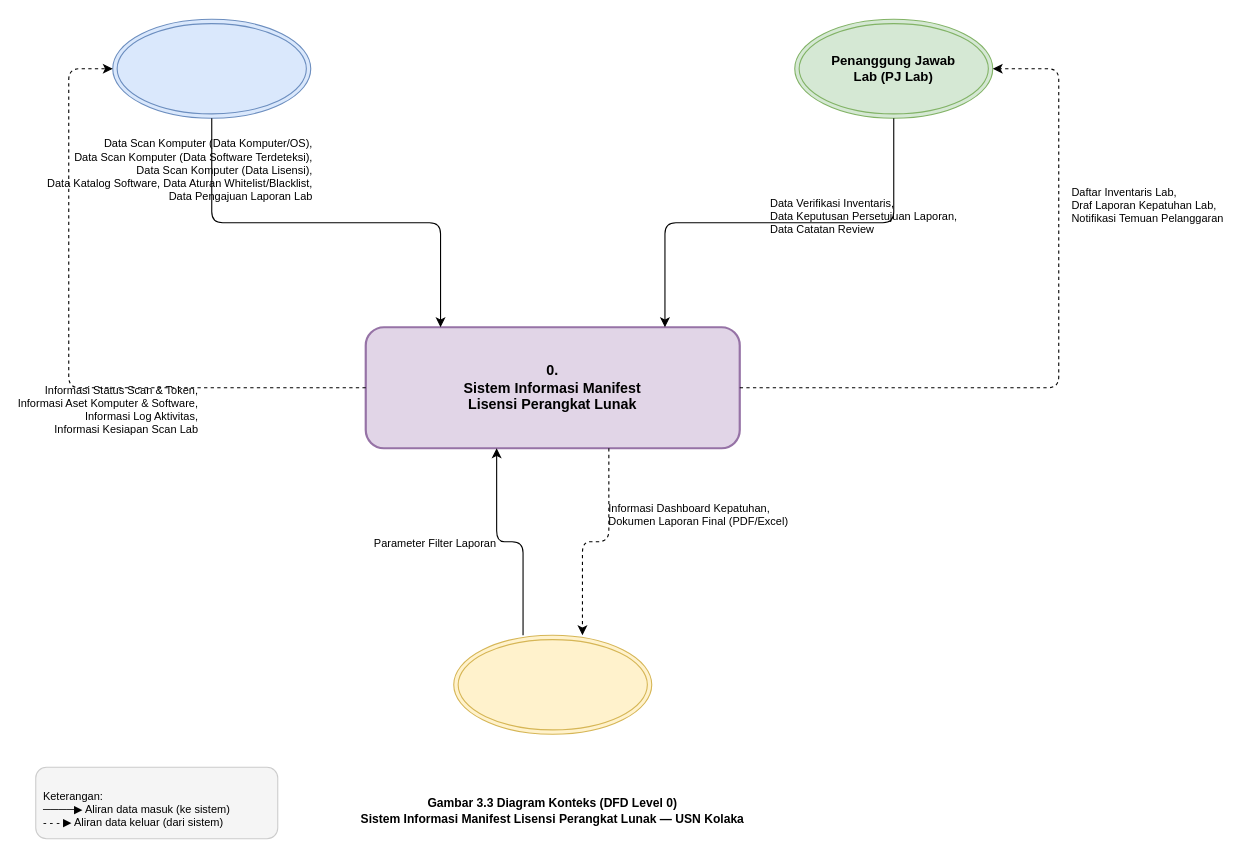
This 1244x858 diagram has some shape labels left out. Here are the shapes that lost their labels. From the top down, the centre of each, then its label:
At (x=211, y=68): "Admin / Staff Lab".
At (x=552, y=684): "Dekan".
